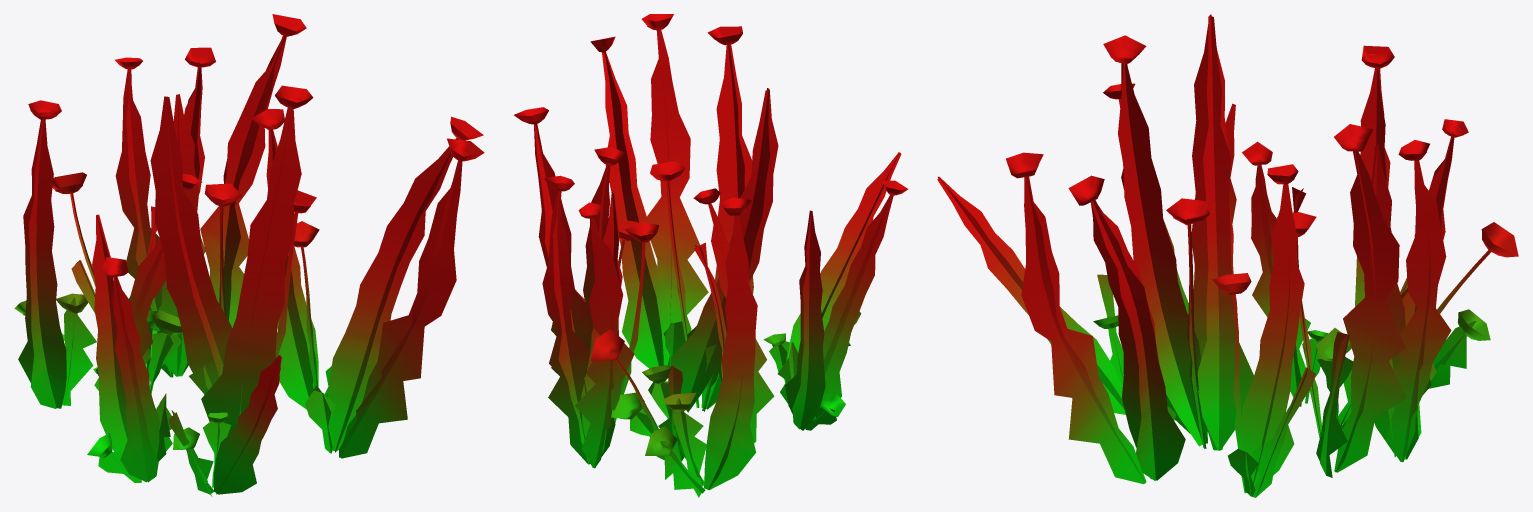
Rendered from White Everlasting_LOD0_Var6_ucvobbbia.fbx.
3 views of the same model, side by side, from view 1: azimuth 30°, elevation 25°; view 2: azimuth 150°, elevation 25°; view 3: azimuth 270°, elevation 25° (orthographic). The views are drawn at different scales.
Visible parts, largest first — view 1: _3fd1_Var6_LOD0; view 2: _3fd1_Var6_LOD0; view 3: _3fd1_Var6_LOD0.
Boxes of the visible parts, x1,y1,x2,y2 form: _3fd1_Var6_LOD0: (14, 14, 484, 496); _3fd1_Var6_LOD0: (514, 14, 908, 497); _3fd1_Var6_LOD0: (937, 14, 1518, 497).
Bounding box in the file's own units: 30.56 × 31.42 × 40.22.
